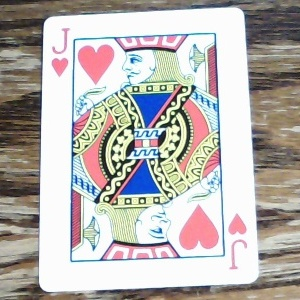card: (39, 9, 260, 291)
